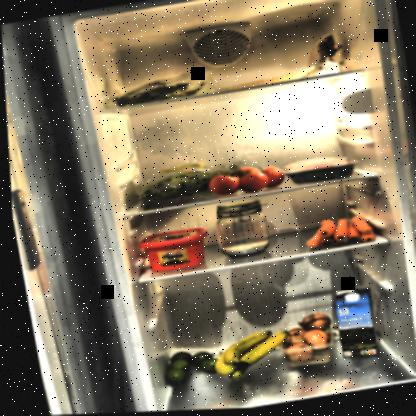banana: (204, 327, 298, 386)
butter: (133, 225, 211, 275)
carrot: (298, 211, 377, 256)
green_beans: (109, 69, 217, 111)
ground_beef: (277, 154, 363, 189)
lime: (155, 346, 222, 388)
milk: (326, 287, 379, 363)
onion: (269, 312, 334, 371)
spinach: (129, 157, 236, 208)
tomato: (205, 161, 285, 199)
